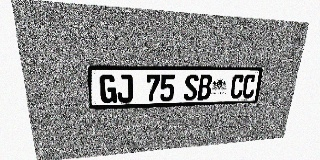5: (160, 74, 175, 101)
7: (145, 74, 160, 102)
B: (197, 74, 212, 100)
C: (229, 74, 245, 99), (241, 74, 257, 98)
G: (99, 74, 117, 104)
J: (117, 74, 133, 103)
S: (184, 74, 199, 101)
